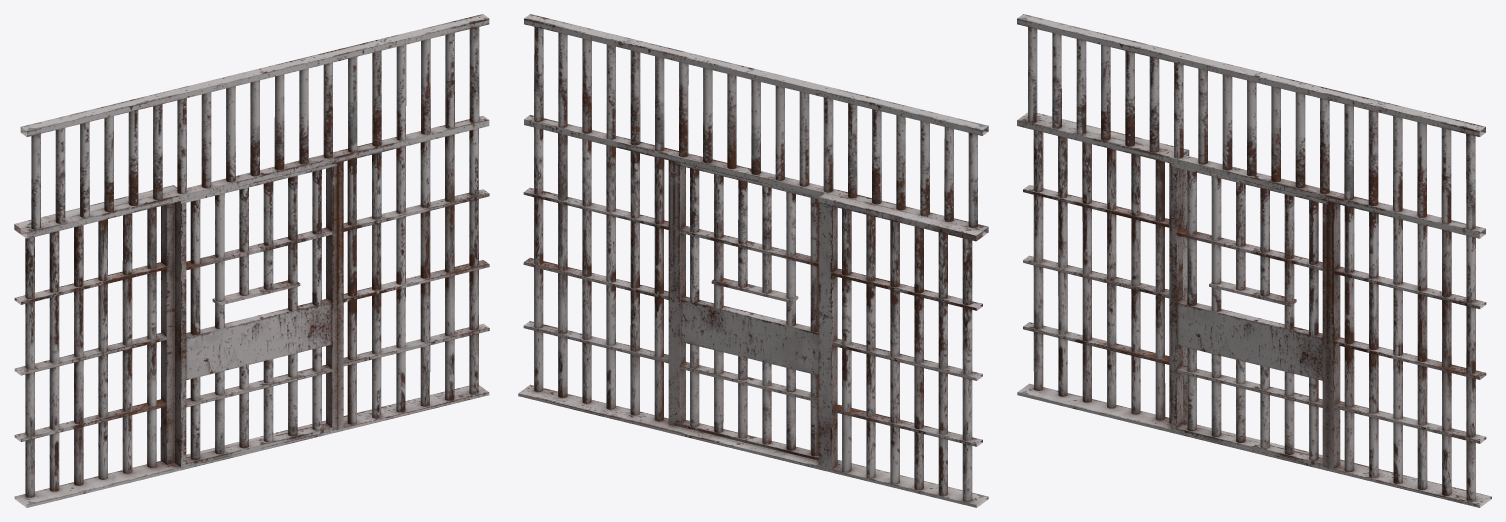
File: Bars.fbx
3 renders of one model, left to right at view 1: azimuth 30°, elevation 25°; view 2: azimuth 150°, elevation 25°; view 3: azimuth 330°, elevation 25°, orthographic.
Parts seen in each view (by area): view 1: Bars; view 2: Bars; view 3: Bars.
Part boxes in pixels (<box>): Bars: <box>14,14,489,507</box>; Bars: <box>518,14,988,507</box>; Bars: <box>1017,14,1491,507</box>.
Size of the model in its own units: 852 by 662 by 40.07.
